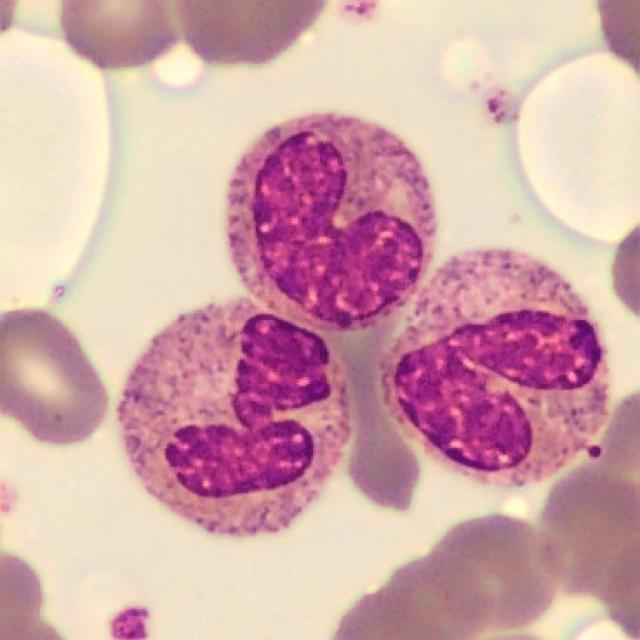Metamielocito: (222, 115, 436, 333)
Neutrofilo segmentado: (376, 244, 611, 494), (116, 301, 351, 540)
